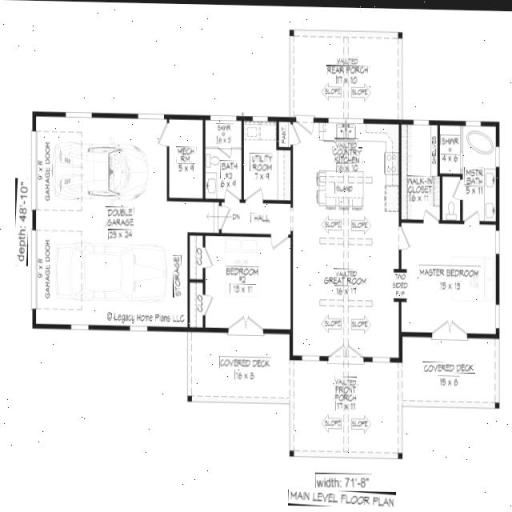bathroom: (172, 116, 286, 200), (444, 124, 496, 218)
bedroom: (400, 224, 498, 332), (188, 235, 283, 334)
closet: (402, 124, 439, 214)
garage: (36, 116, 166, 330)
kitchen: (289, 126, 396, 208)
porch: (293, 363, 403, 452)
